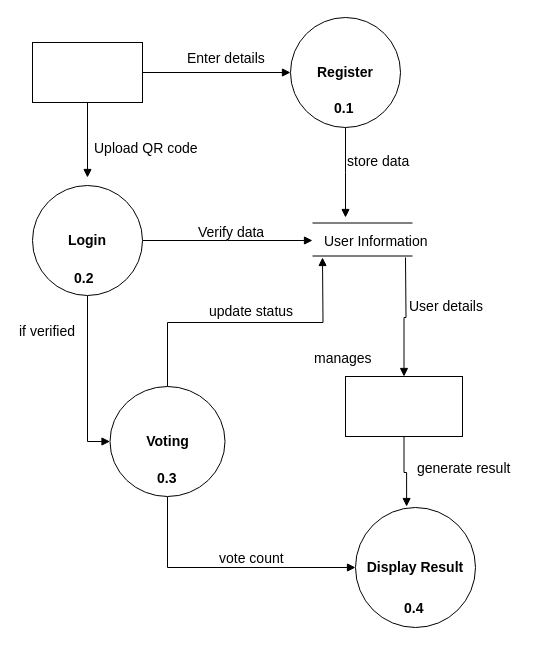
This 542x645 diagram has some shape labels left out. The shapes that lost their labels are listed below. From the top down, each one's centre as x and y in pixels, then its label:
At pixel 87 72: "User".
At pixel 403 406: "Admin".
